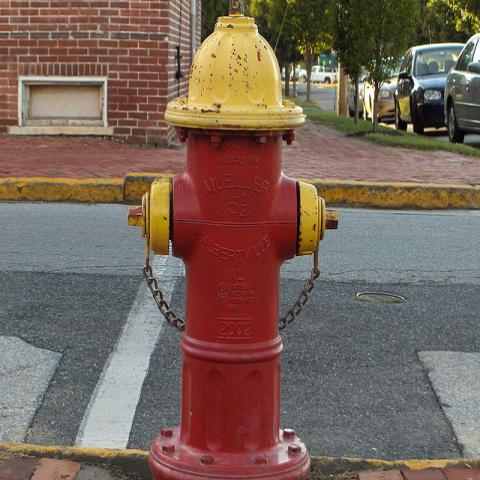car: (392, 43, 466, 134), (445, 34, 479, 145), (361, 58, 404, 120), (347, 84, 366, 112)
truck: (311, 66, 338, 84)
